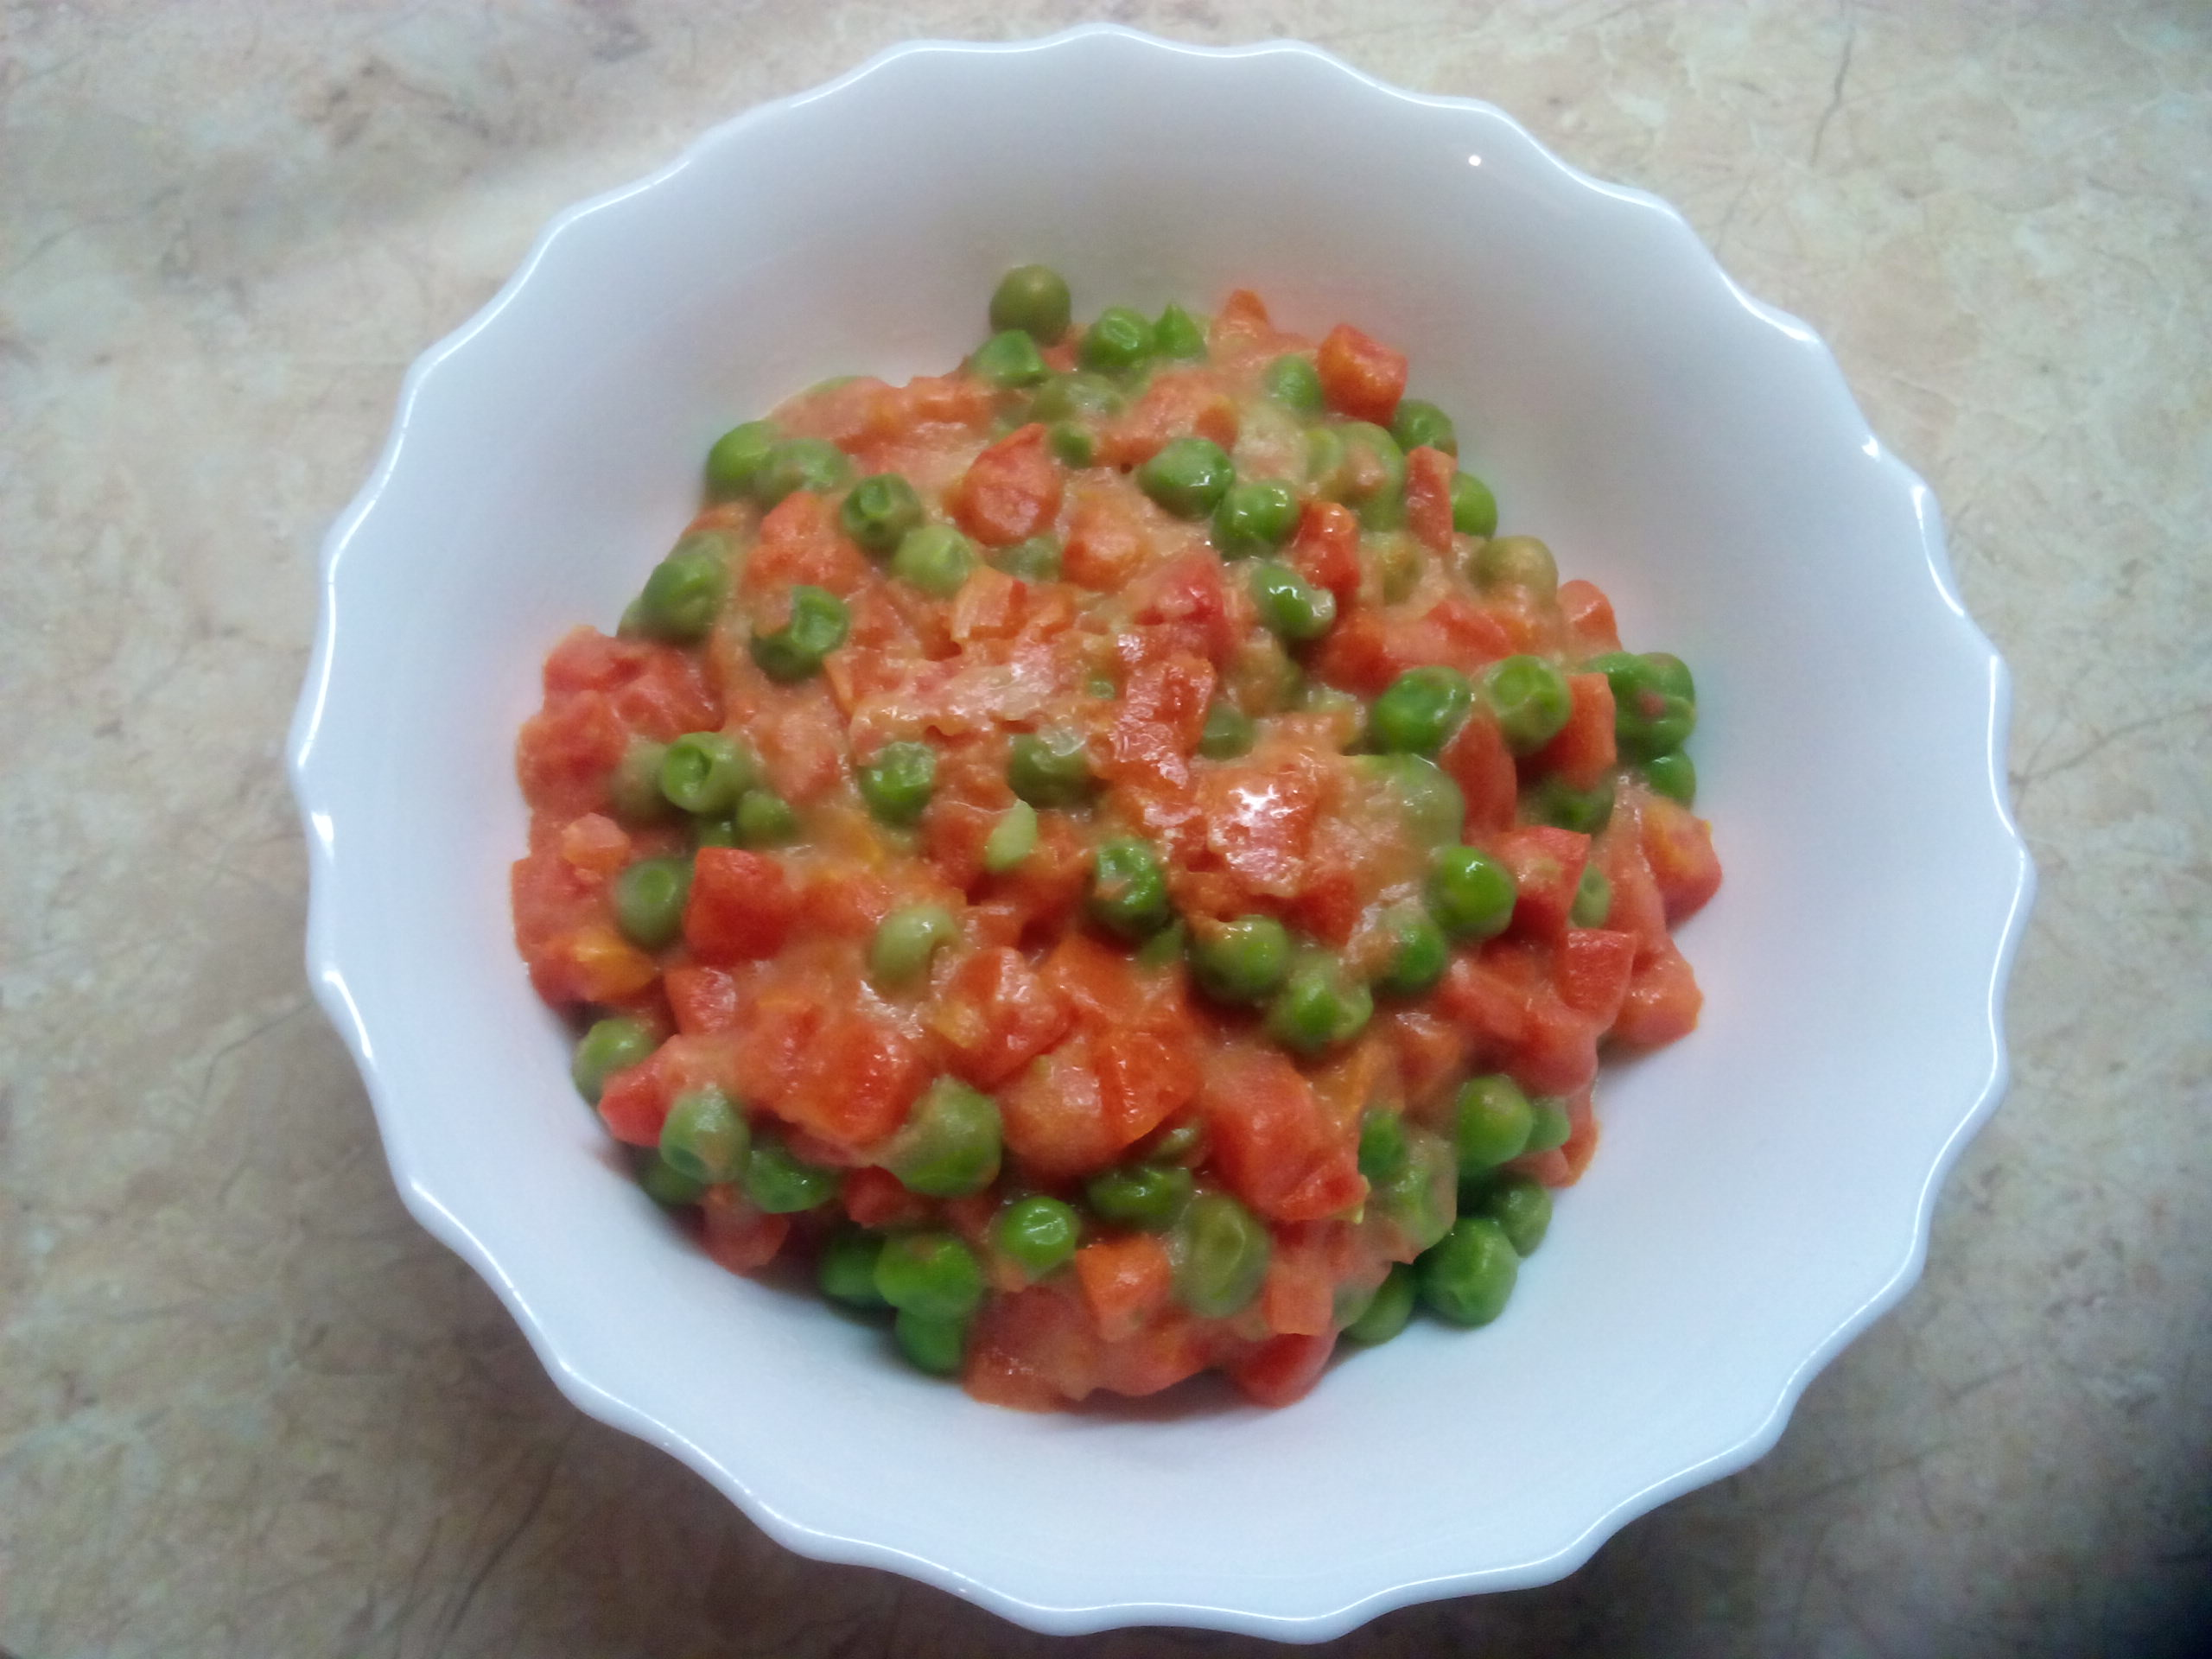boiled peas: (611, 375, 1641, 1361)
